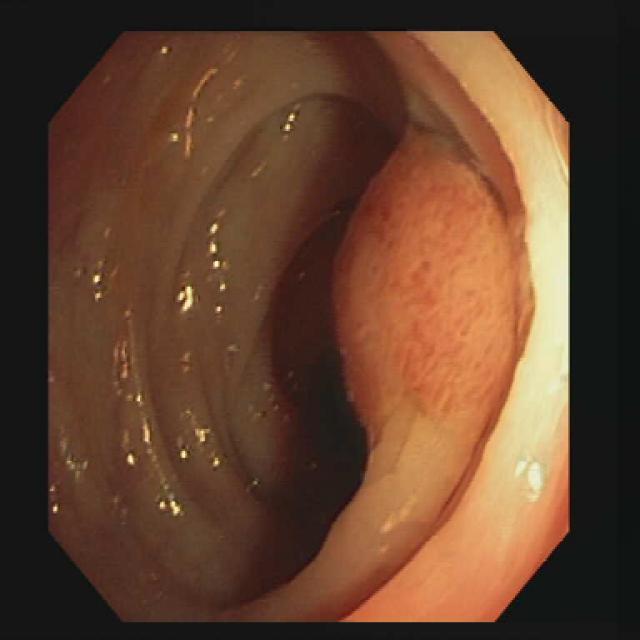tumor: (333, 131, 530, 489)
